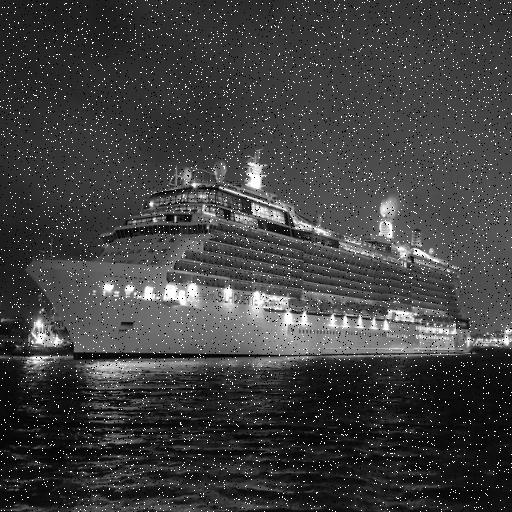cruises: (23, 146, 483, 365)
